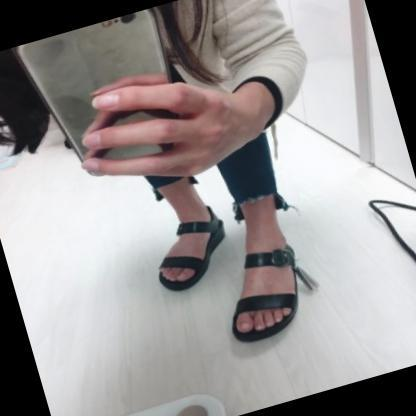no_safety-shoe: (208, 211, 371, 349), (133, 202, 229, 302)
